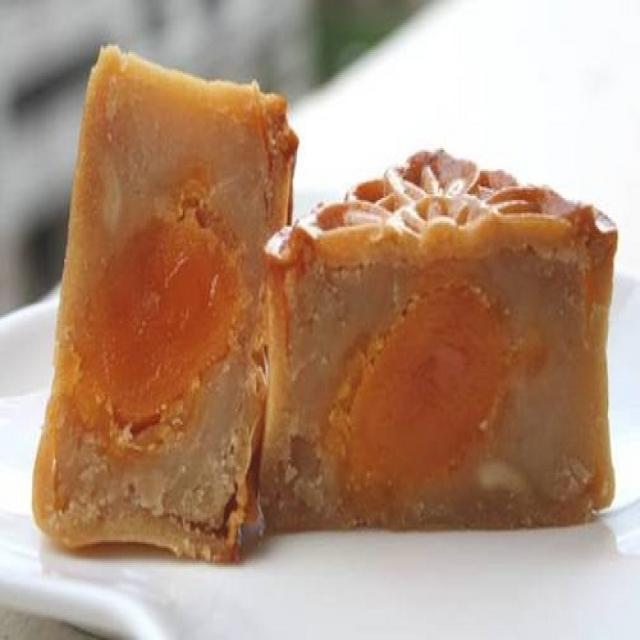蛋糕甜品: (47, 42, 616, 586)
